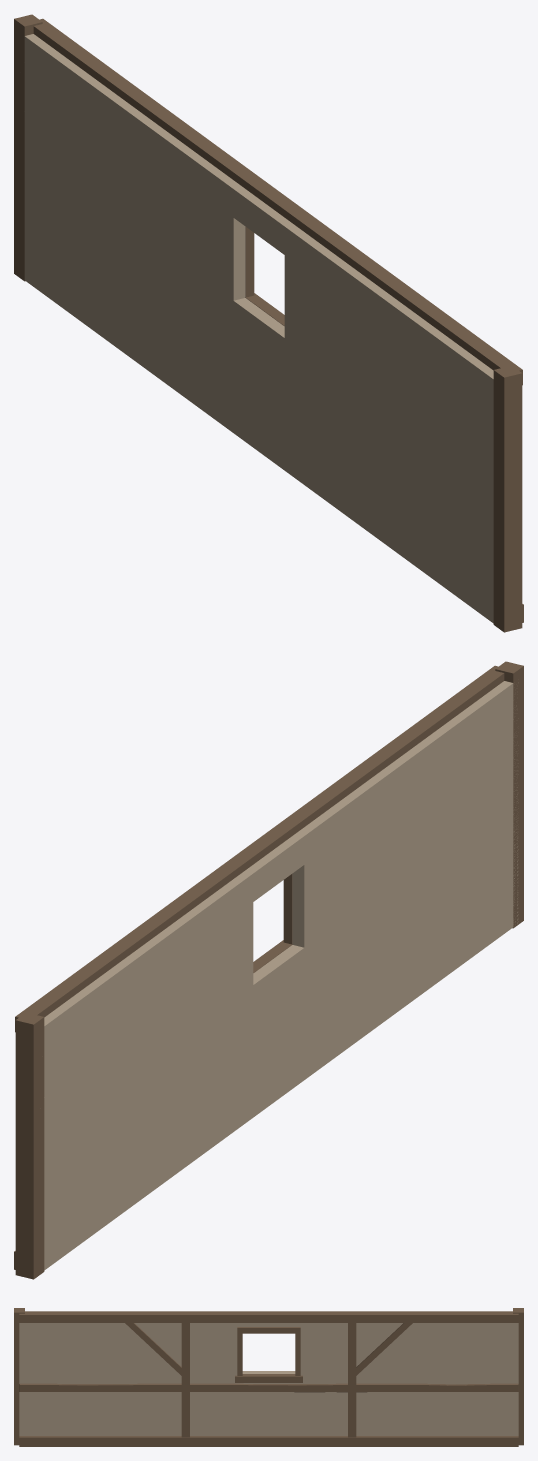
Rendered from beam_B.glb.
The picture shows the model from 3 angles, top to bottom: view 1: azimuth 30°, elevation 25°; view 2: azimuth 150°, elevation 25°; view 3: azimuth 270°, elevation 25°; orthographic projection. The views are drawn at different scales.
Visible parts, largest first — view 1: MOD01_Bay_3_Infill, MOD01_Bay_1_Infill, MOD01_Bay_2_Infill, 08A_SideWallPlate.006, 08A_CornerPost.012, 08A_CornerPost.013; view 2: MOD01_Bay_1_Infill, MOD01_Bay_3_Infill, MOD01_Bay_2_Infill, 08A_SideWallPlate.006, 08A_CornerPost.013, 08A_CornerPost.012; view 3: MOD01_Bay_3_Infill, MOD01_Bay_1_Infill, MOD01_Bay_2_Infill, 08A_SideWallPlate.006, ART01_SideSill, ART01_MidRail, ART01_IntermediatePost_1, ART01_IntermediatePost_2, 08A_CornerPost.012, 08A_CornerPost.013, MOD01_Bay_2_sill, ART01_KneeBrace_1 (+4 smaller).
Part boxes in pixels (x1,y1,x2,y2): MOD01_Bay_3_Infill: [24, 34, 187, 392]; MOD01_Bay_1_Infill: [339, 264, 493, 623]; MOD01_Bay_2_Infill: [179, 147, 347, 509]; 08A_SideWallPlate.006: [33, 18, 522, 385]; 08A_CornerPost.012: [493, 365, 522, 632]; 08A_CornerPost.013: [14, 14, 42, 281]; MOD01_Bay_1_Infill: [350, 681, 518, 1039]; MOD01_Bay_3_Infill: [44, 911, 198, 1270]; MOD01_Bay_2_Infill: [190, 794, 358, 1156]; 08A_SideWallPlate.006: [15, 665, 504, 1032]; 08A_CornerPost.013: [15, 1012, 44, 1279]; 08A_CornerPost.012: [495, 661, 523, 928]; MOD01_Bay_3_Infill: [356, 1323, 518, 1435]; MOD01_Bay_1_Infill: [19, 1323, 181, 1435]; MOD01_Bay_2_Infill: [190, 1323, 347, 1435]; 08A_SideWallPlate.006: [19, 1311, 518, 1322]; ART01_SideSill: [19, 1436, 518, 1446]; ART01_MidRail: [19, 1383, 518, 1392]; ART01_IntermediatePost_1: [181, 1323, 189, 1437]; ART01_IntermediatePost_2: [348, 1323, 356, 1437]; 08A_CornerPost.012: [14, 1308, 24, 1445]; 08A_CornerPost.013: [513, 1308, 523, 1445]; MOD01_Bay_2_sill: [235, 1374, 302, 1382]; ART01_KneeBrace_1: [125, 1323, 181, 1375].
Bounding box in the file's own units: 0.22 × 2.14 × 7.46.
